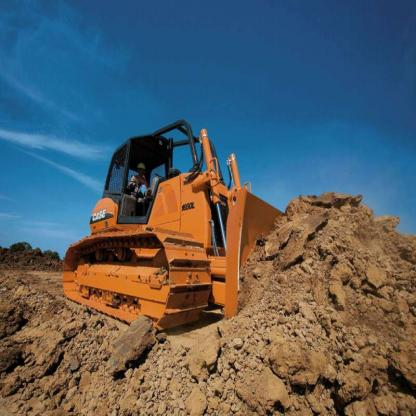bull_dozer/loader/grader: (55, 100, 329, 339)
